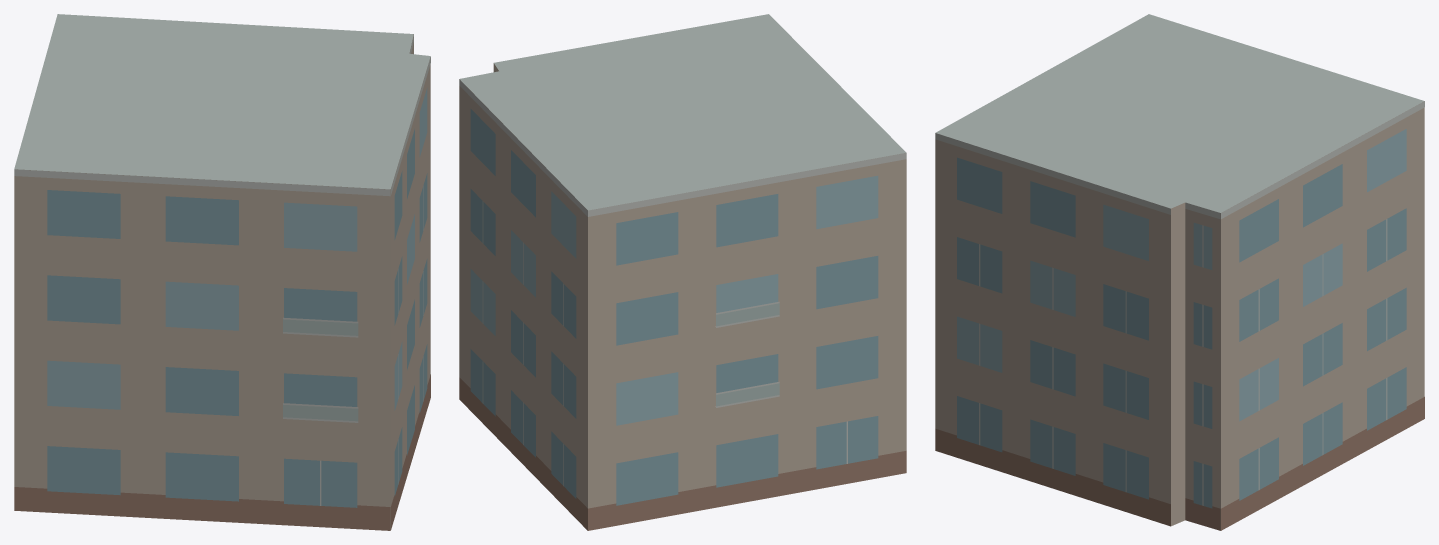
Rendered from survey-upis-32670220.glb.
3 views of the same model, side by side, from view 1: azimuth 30°, elevation 25°; view 2: azimuth 150°, elevation 25°; view 3: azimuth 270°, elevation 25° (orthographic). The views are drawn at different scales.
Parts seen in each view (by area): view 1: survey-upis-32670220.tmp; view 2: survey-upis-32670220.tmp; view 3: survey-upis-32670220.tmp.
Boxes of the visible parts, <box> form: survey-upis-32670220.tmp: <box>14,14,430,530</box>; survey-upis-32670220.tmp: <box>459,14,906,530</box>; survey-upis-32670220.tmp: <box>935,14,1424,530</box>.
Bounding box in the file's own units: 16.4 × 12.2 × 17.04.
